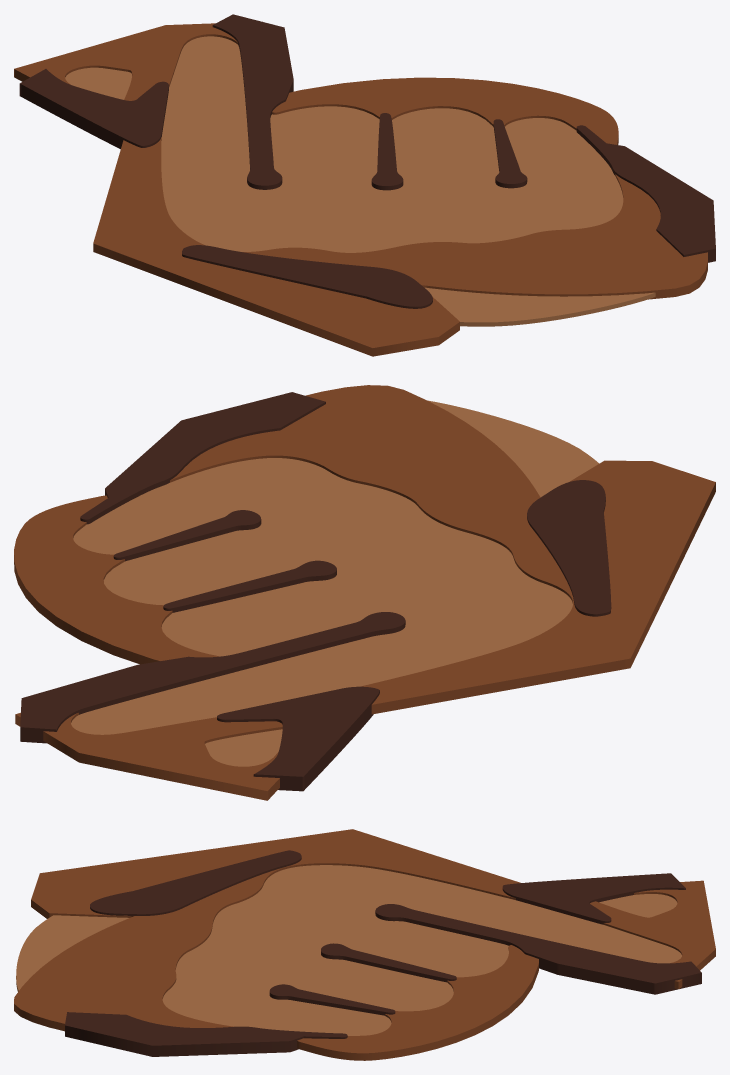
The model's file is emoji_u1faf0_1f3fe.glb.
The picture shows the model from 3 angles, top to bottom: view 1: azimuth 30°, elevation 25°; view 2: azimuth 150°, elevation 25°; view 3: azimuth 270°, elevation 25°; orthographic projection. The views are drawn at different scales.
Parts seen in each view (by area): view 1: emoji_u1faf0_1f3fe; view 2: emoji_u1faf0_1f3fe; view 3: emoji_u1faf0_1f3fe.
Boxes of the visible parts, x1=… form: emoji_u1faf0_1f3fe: x1=14, y1=14, x2=715, y2=356; emoji_u1faf0_1f3fe: x1=14, y1=385, x2=715, y2=800; emoji_u1faf0_1f3fe: x1=14, y1=829, x2=715, y2=1060.
Bounding box in the file's own units: 0.0257 × 0.0006 × 0.0339.
